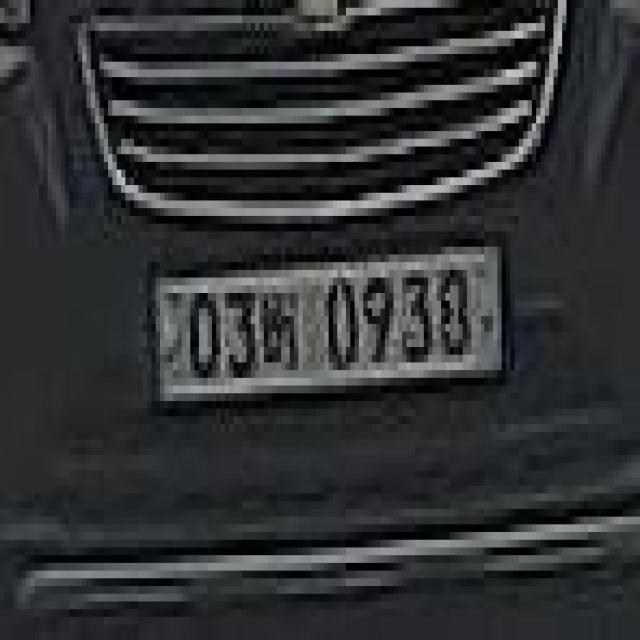illegal_plate: (145, 238, 509, 412)
